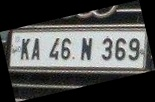character: (47, 37, 60, 61), (80, 37, 92, 61), (127, 37, 139, 61), (114, 37, 126, 60), (101, 37, 112, 61), (60, 37, 71, 60), (19, 38, 30, 60), (30, 37, 39, 61)
